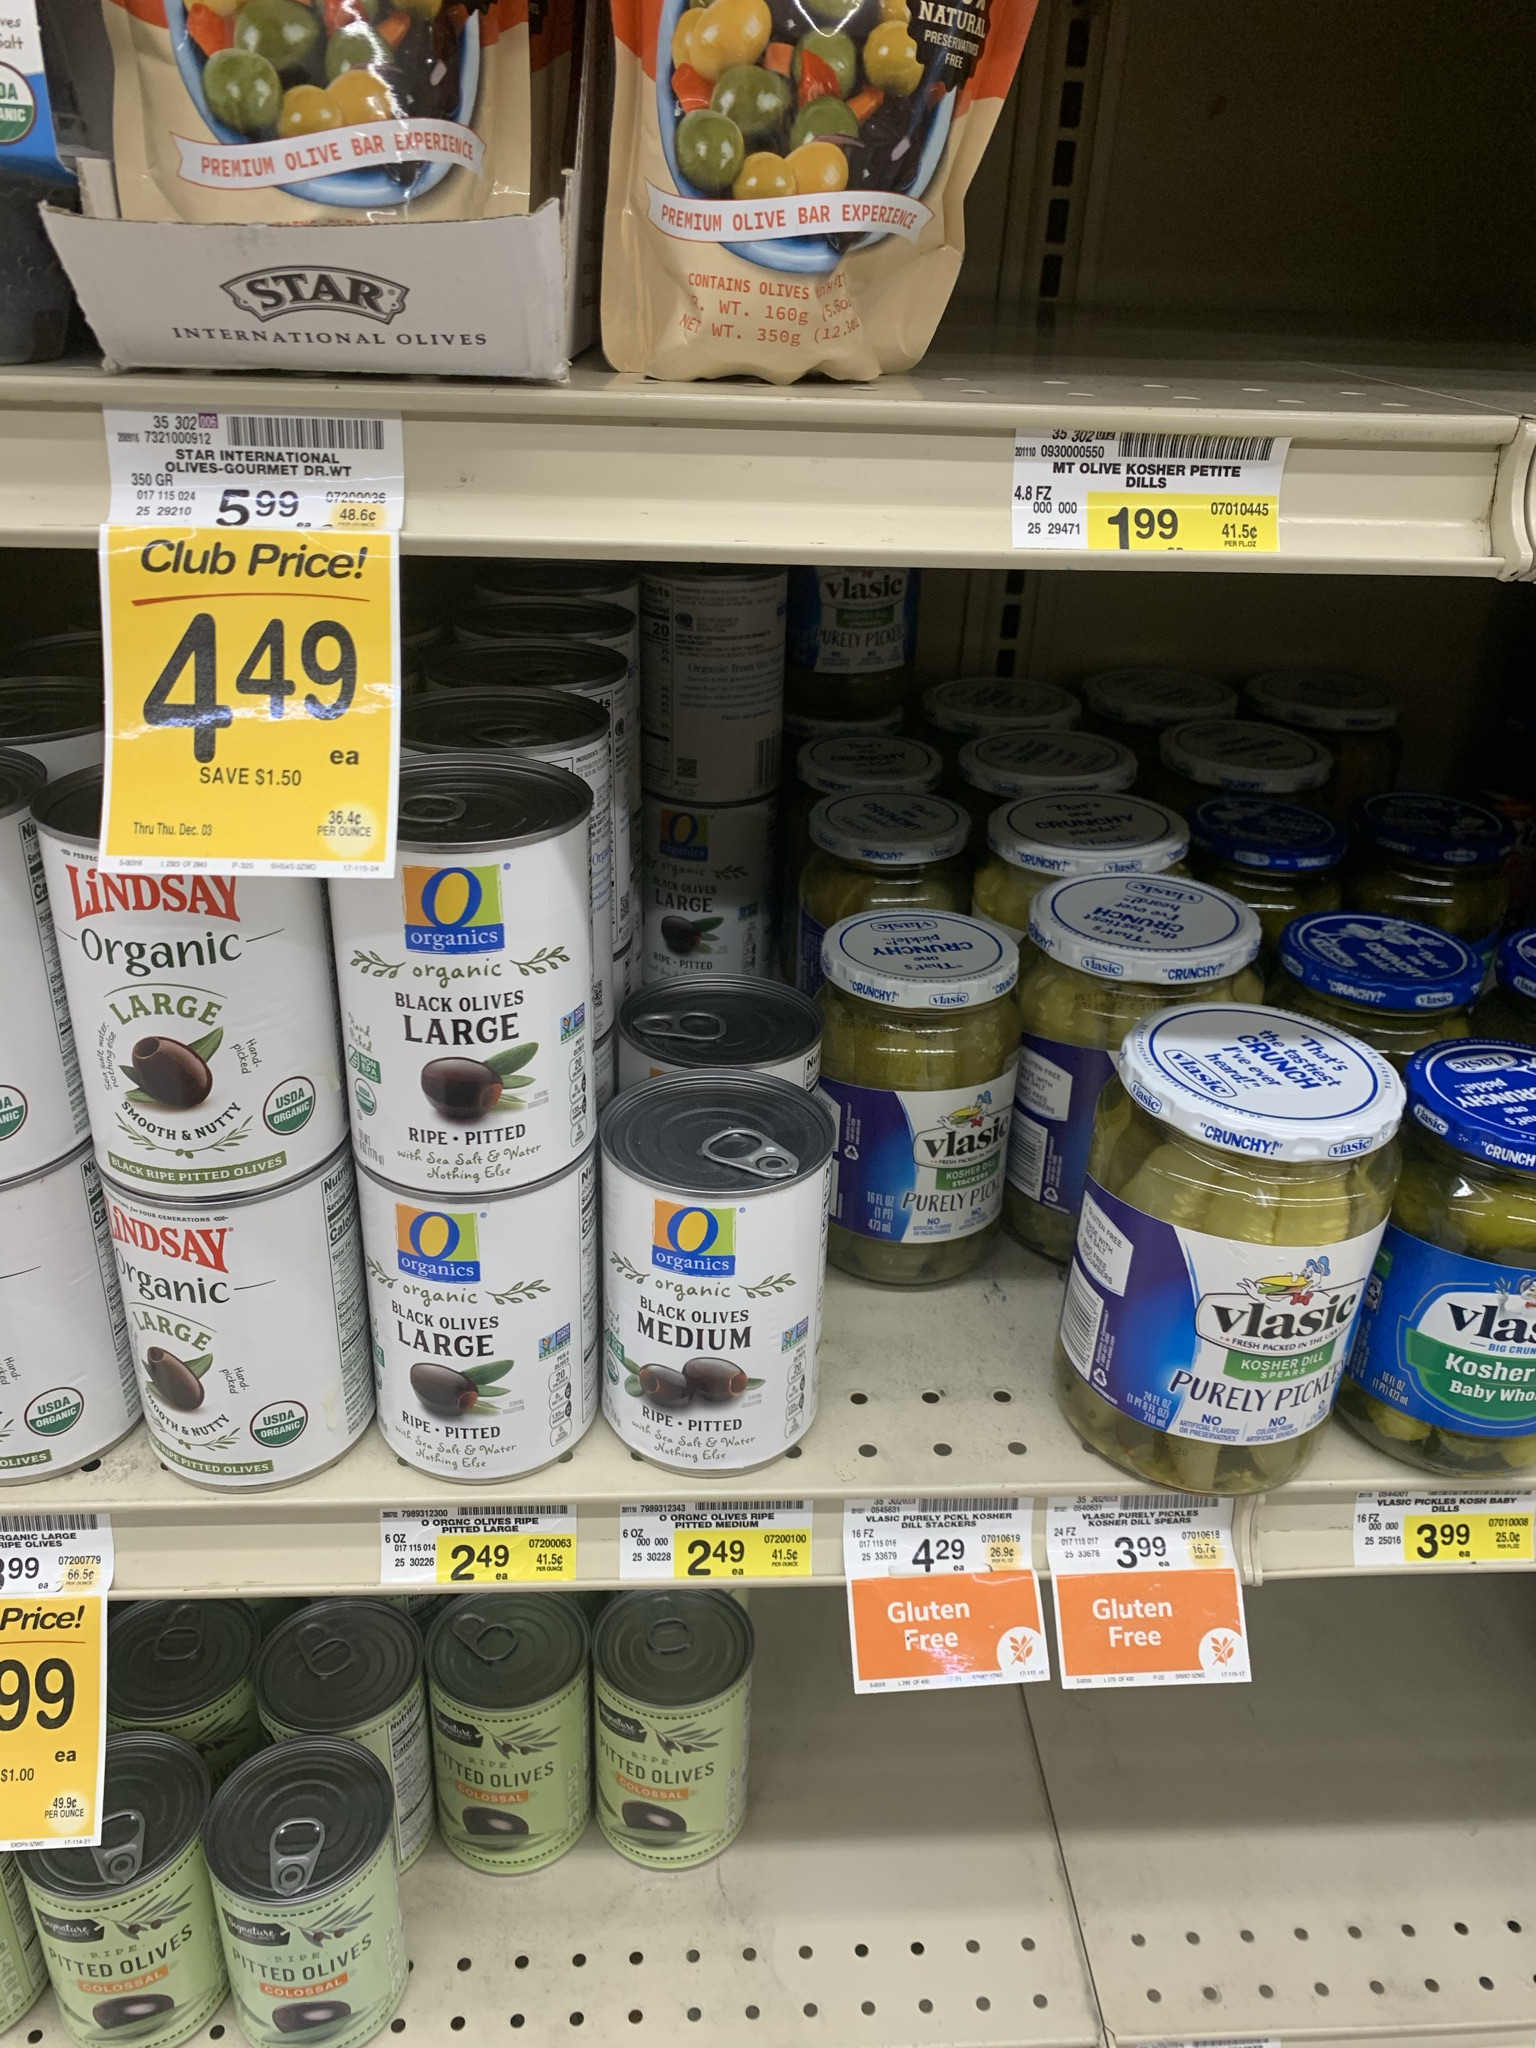can: (616, 1108, 816, 1450), (92, 880, 326, 1168), (349, 884, 591, 1161), (373, 1198, 586, 1442), (119, 1219, 352, 1427), (227, 1809, 397, 2013), (608, 1659, 744, 1843), (53, 1861, 192, 2037), (445, 1661, 584, 1832)
